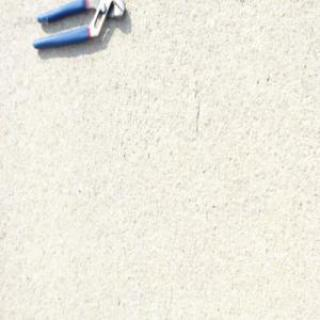Pliertrack_idkeyframe: (30, 0, 126, 51)
